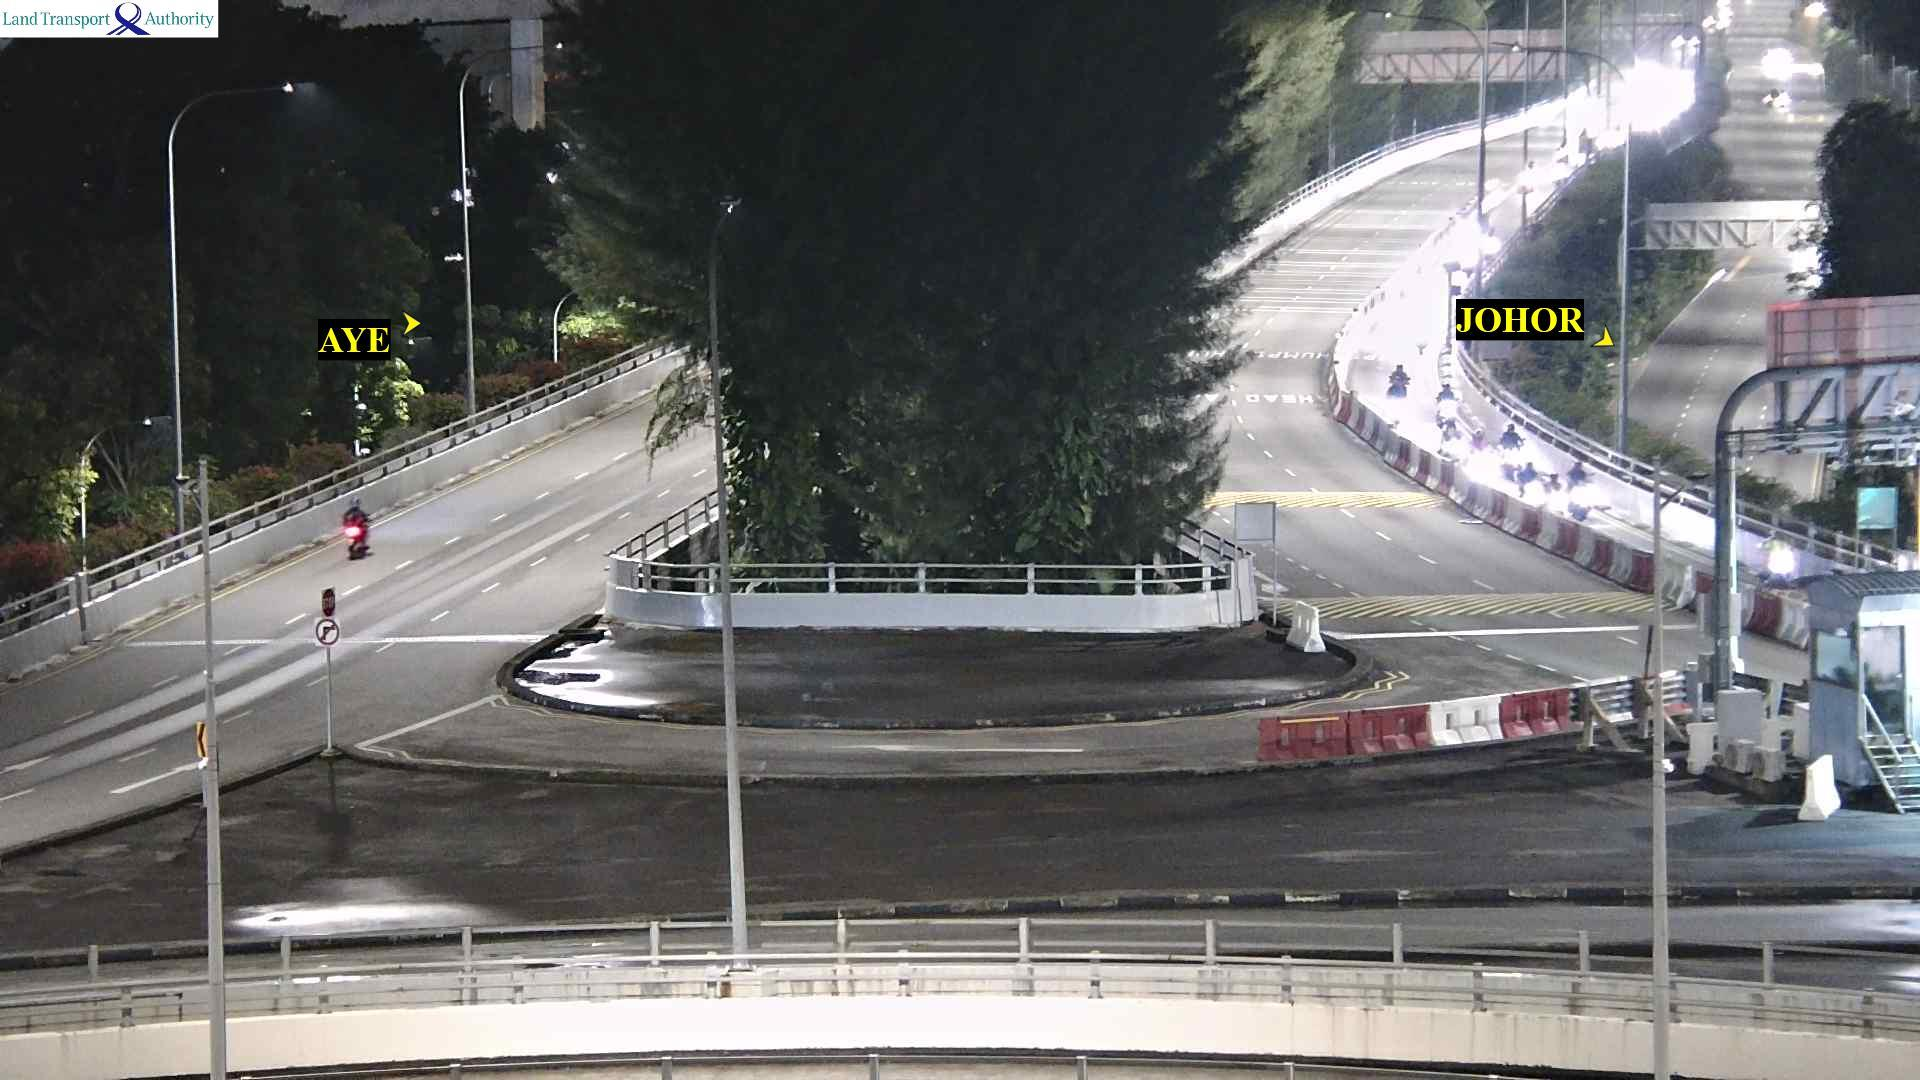vehicle-secondlink-johor: (1567, 463, 1593, 509), (1472, 431, 1495, 477), (1436, 389, 1462, 430), (1513, 462, 1538, 496), (1389, 363, 1414, 396), (1543, 471, 1560, 509), (1503, 423, 1520, 459)
vehicle-secondlink-singapore: (339, 502, 376, 559)
